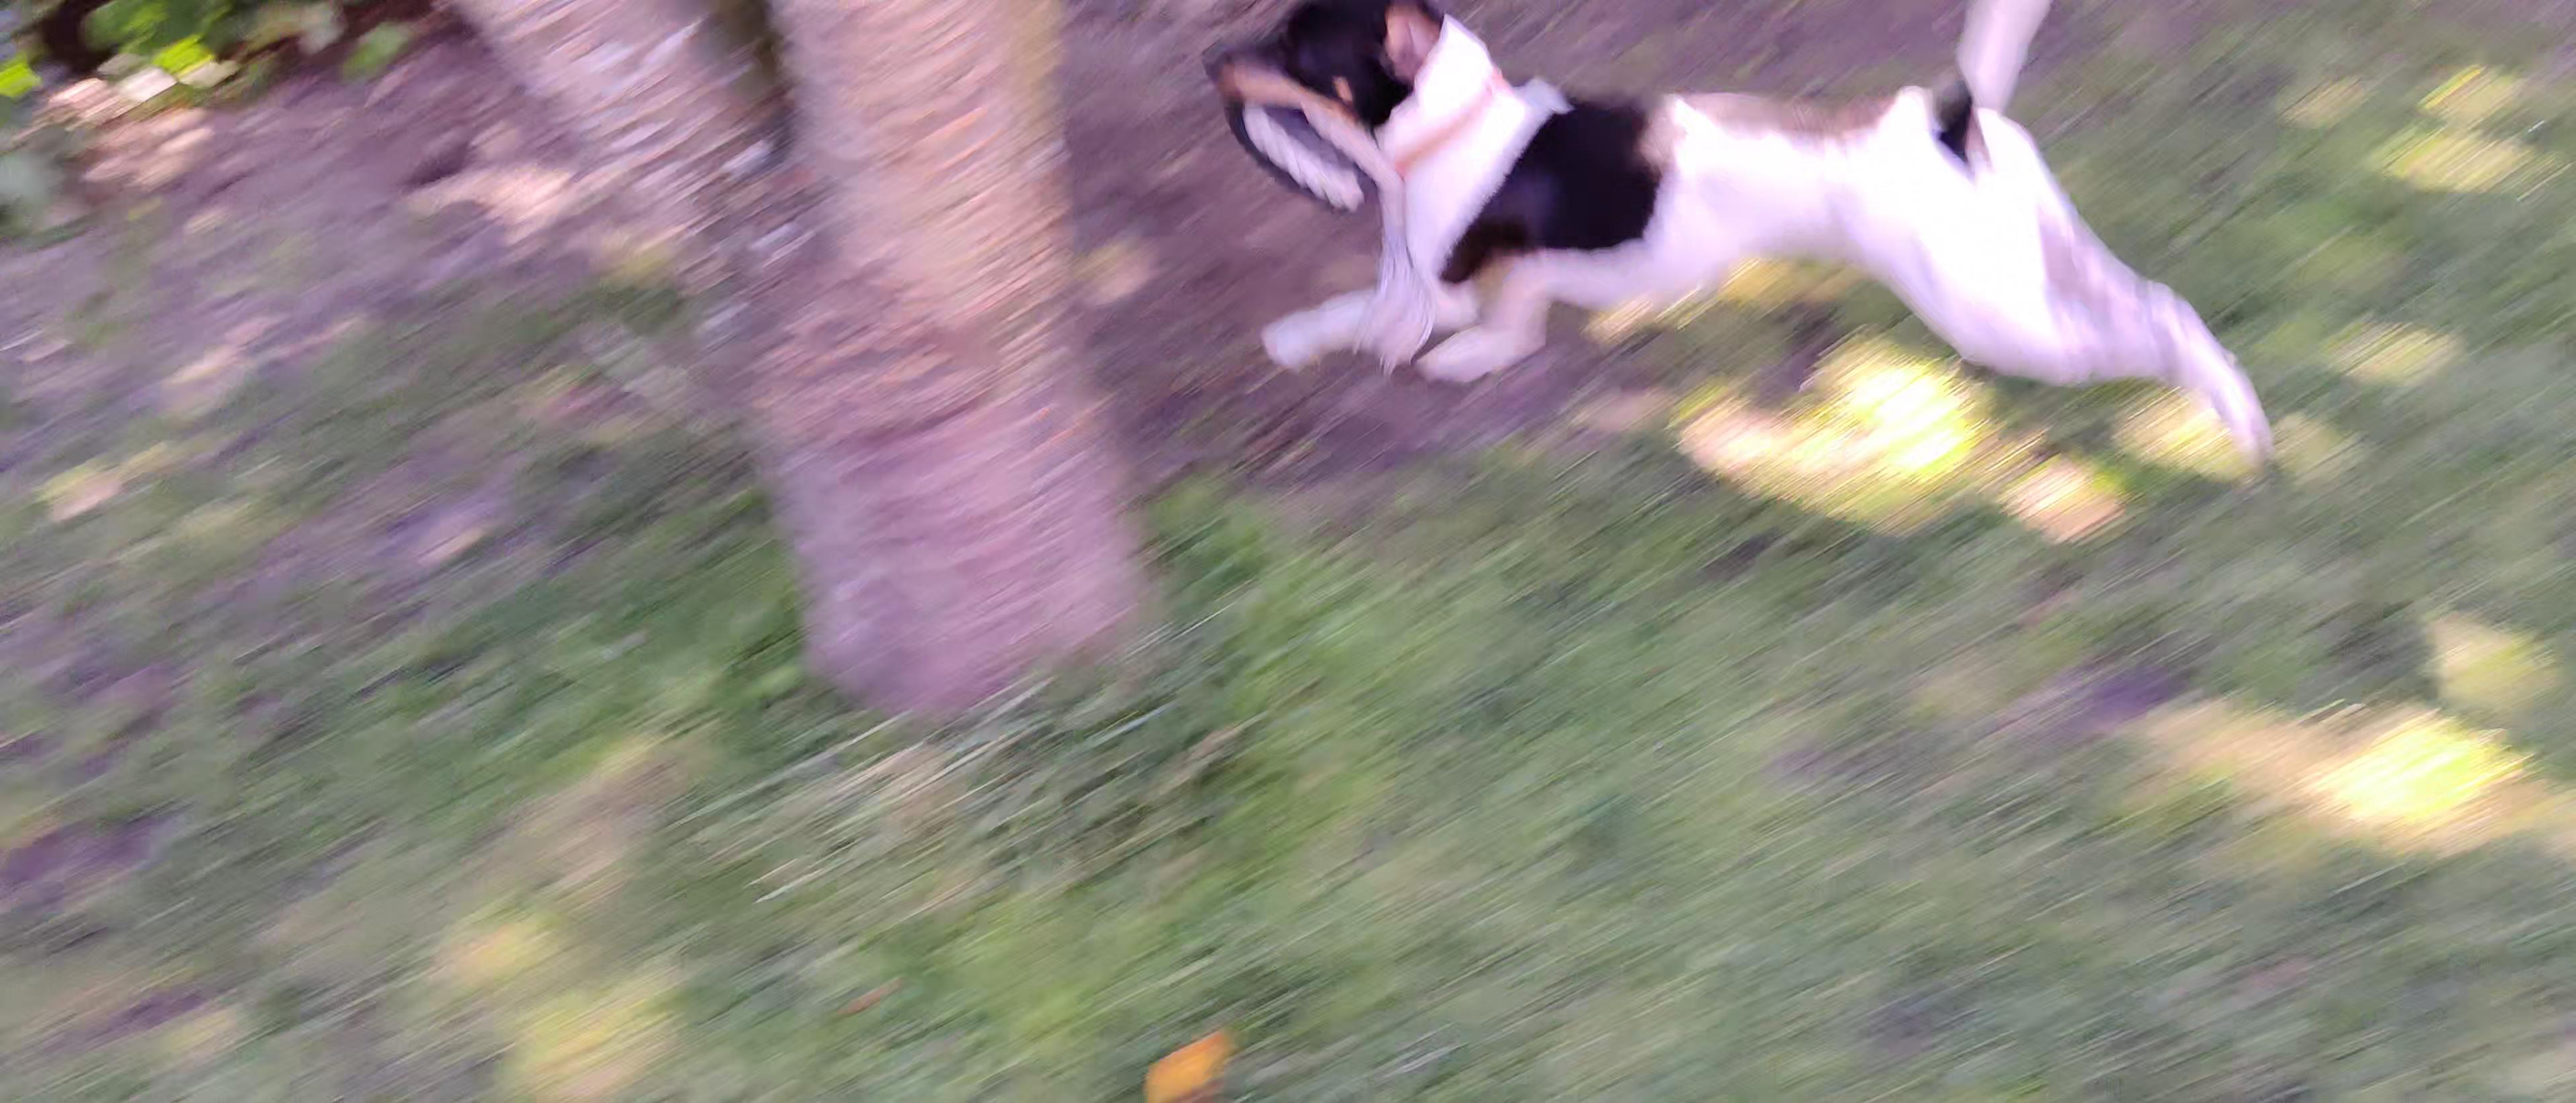Dog: (1186, 0, 2300, 477)
